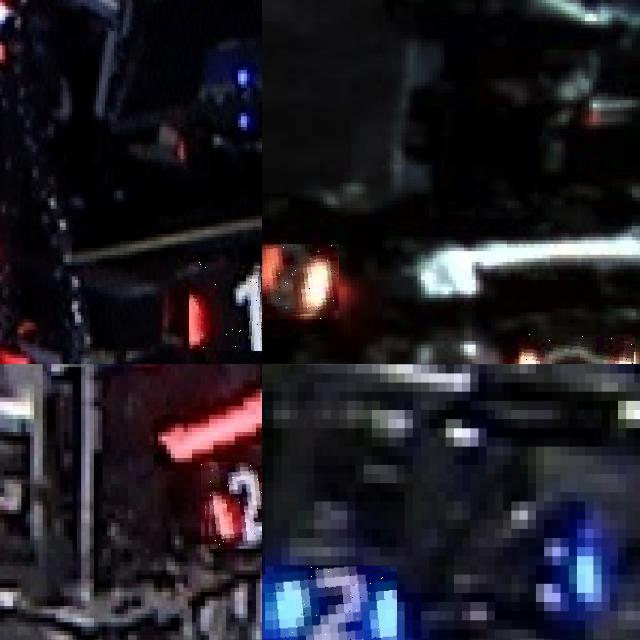B2: (265, 565, 396, 640)
R1: (189, 262, 262, 351)
R2: (200, 462, 262, 548)
Rs: (262, 243, 339, 319), (518, 333, 635, 364)
